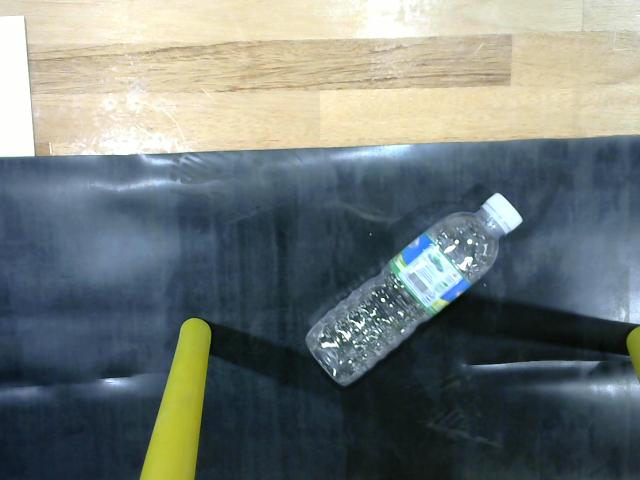bottle: (301, 186, 530, 391)
